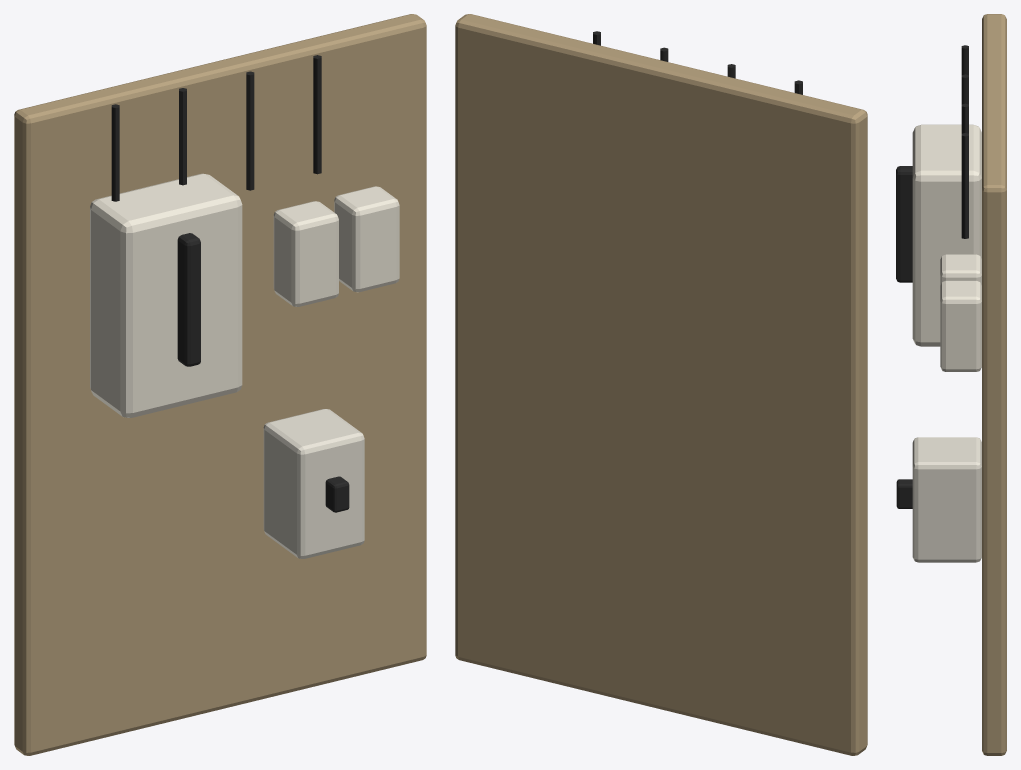
The model's file is BangDienChinh.glb.
3 renders of one model, left to right at view 1: azimuth 30°, elevation 25°; view 2: azimuth 150°, elevation 25°; view 3: azimuth 270°, elevation 25°, orthographic. The views are drawn at different scales.
Visible parts, largest first — view 1: geometry_0; view 2: geometry_0; view 3: geometry_0.
Boxes of the visible parts, x1,y1,x2,y2 form: geometry_0: [14, 14, 426, 755]; geometry_0: [455, 14, 867, 755]; geometry_0: [896, 14, 1006, 755].
Size of the model in its own units: 0.3 by 0.455 by 0.08.
